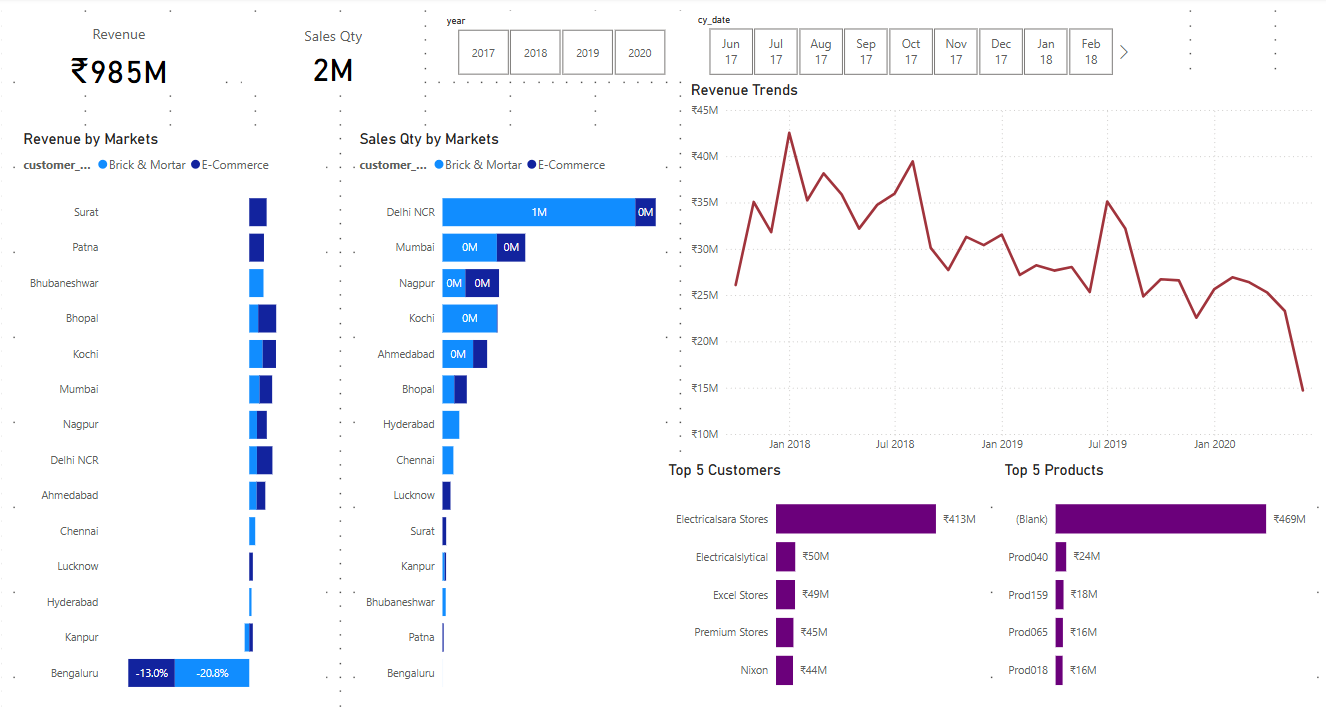

The page's visual inventory and layout, read from the dashboard file:
{"tool":"powerbi","page":{"name":"Key Insights","canvas":[1500,815],"ordinal":0},"visuals":[{"type":"textbox","box":[78,336,299,301],"z":0},{"type":"cardVisual","fields":{"Data":["BaseMeasures.Revenue"]},"box":[21.2,18.4,227.3,103.1],"z":1000},{"type":"cardVisual","fields":{"Data":["BaseMeasures.Sales Qty"]},"box":[268.2,19.8,217.4,103.1],"z":2000},{"type":"barChart","title":"Revenue by Markets","fields":{"Category":["sales markets.markets_name"],"Y":["BaseMeasures.Profit Margin %"],"Series":["sales customers.customer_type"]},"box":[21.2,149.6,347.3,664.9],"z":3000},{"type":"barChart","title":"Sales Qty by Markets","fields":{"Y":["BaseMeasures.Sales Qty"],"Category":["sales markets.markets_name"],"Series":["sales customers.customer_type"]},"box":[400.9,149.6,348.7,664.9],"z":4000},{"type":"slicer","fields":{"Values":["sales date.year"]},"box":[491.3,15.5,283.8,79.1],"z":5000},{"type":"slicer","fields":{"Values":["sales date.cy_date"]},"box":[775.1,14.1,505.4,80.5],"z":6000},{"type":"barChart","title":"Top 5 Customers","fields":{"Y":["BaseMeasures.Revenue"],"Category":["sales customers.custmer_name"]},"box":[749.6,523.8,364.2,290.8],"z":7000},{"type":"barChart","title":"Top 5 Customers","fields":{"Y":["BaseMeasures.Revenue"],"Category":["sales products.product_code"]},"box":[1129.4,523.8,354.4,290.8],"z":8000},{"type":"lineChart","title":"Revenue Trends","fields":{"Category":["sales date.cy_date"],"Y":["BaseMeasures.Revenue"]},"box":[775.1,94.6,725.6,429.2],"z":9000}]}

Visuals, with their boxes in screenshot pixels (x1, y1, x2, y2), scaled from the page's 1500x815 canvas onto the 1326x714 screenshot:
textbox: <bbox>69, 294, 333, 558</bbox>
cardVisual - BaseMeasures.Revenue: <bbox>19, 16, 220, 106</bbox>
cardVisual - BaseMeasures.Sales Qty: <bbox>237, 17, 429, 108</bbox>
"Revenue by Markets" barChart: <bbox>19, 131, 326, 713</bbox>
"Sales Qty by Markets" barChart: <bbox>354, 131, 663, 713</bbox>
slicer - sales date.year: <bbox>434, 14, 685, 83</bbox>
slicer - sales date.cy_date: <bbox>685, 12, 1132, 83</bbox>
"Top 5 Customers" barChart: <bbox>663, 459, 985, 713</bbox>
"Top 5 Customers" barChart: <bbox>998, 459, 1312, 713</bbox>
"Revenue Trends" lineChart: <bbox>685, 83, 1325, 459</bbox>
